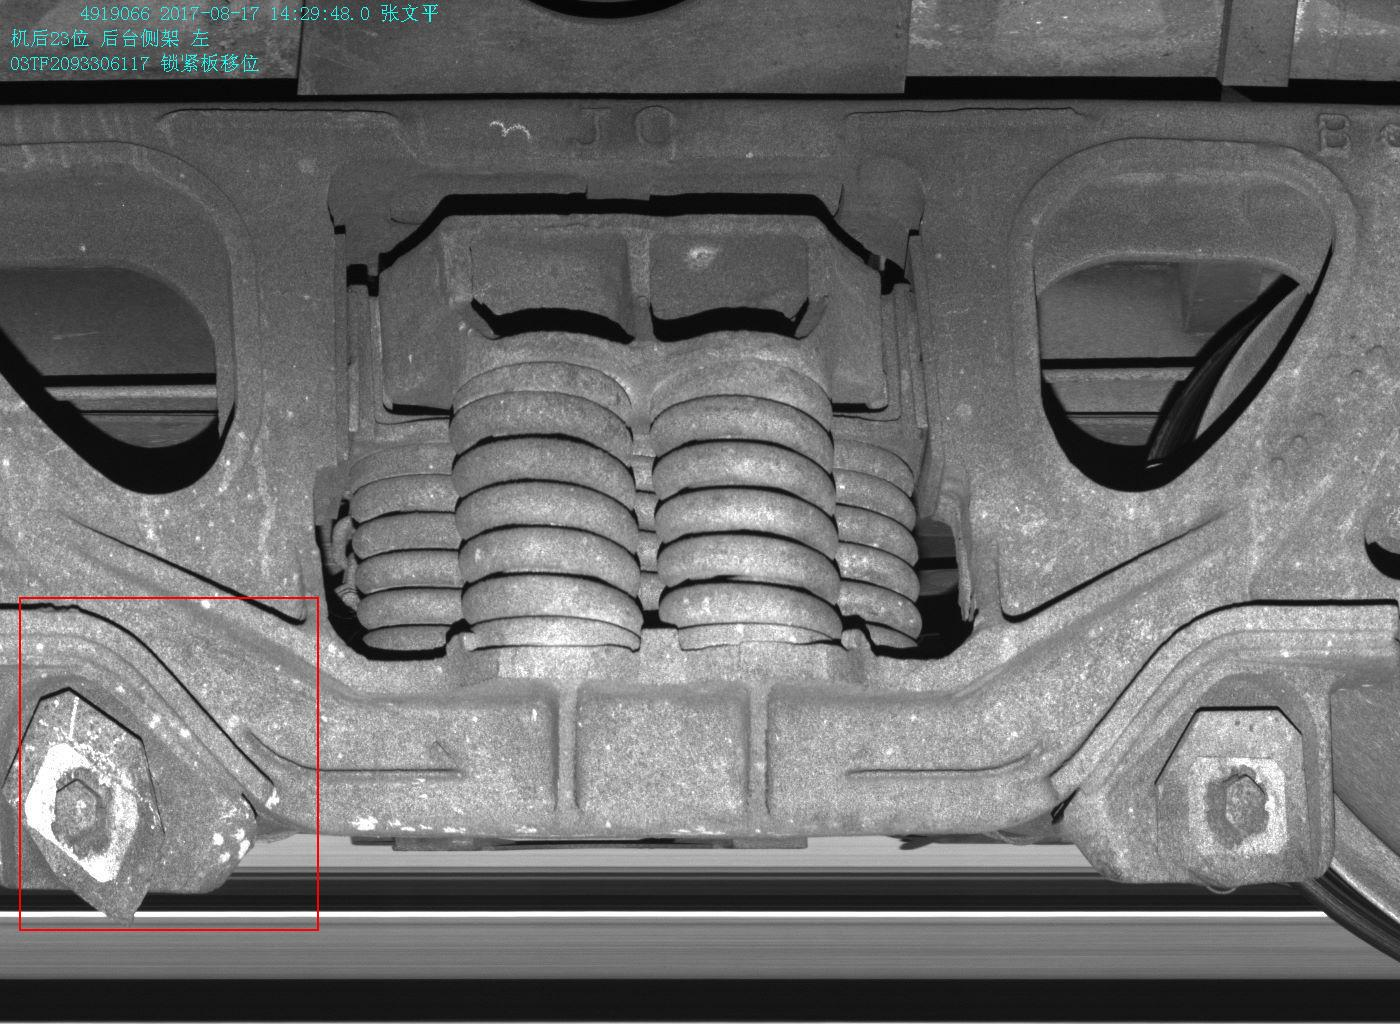Locking plate: (1, 672, 261, 927)
normal: (1071, 653, 1333, 887)
